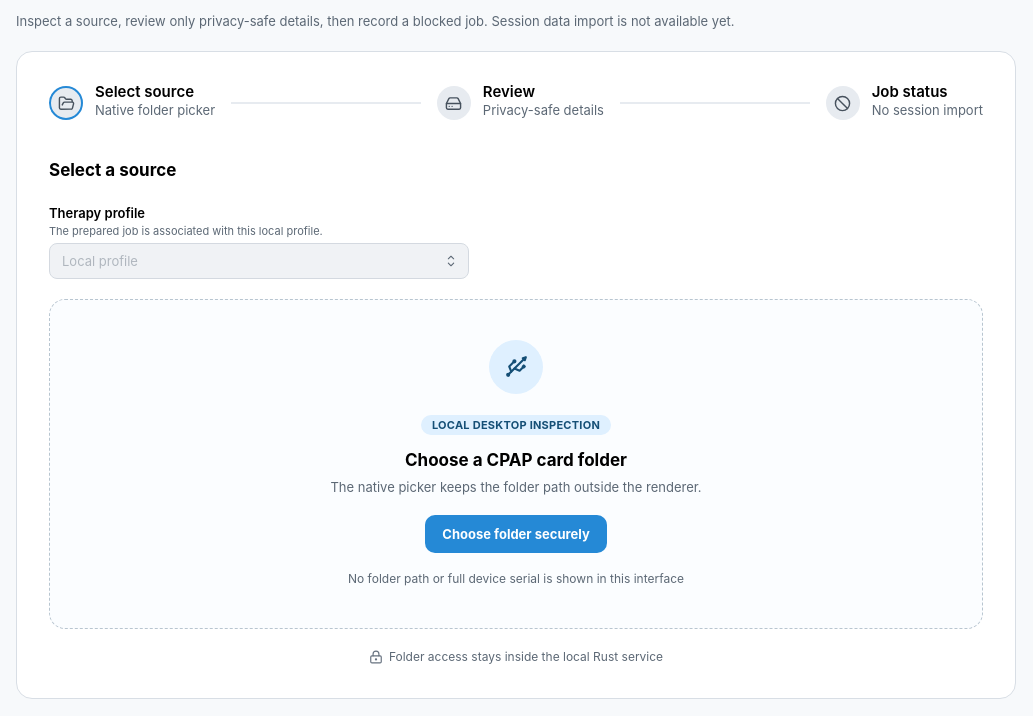
Test: Import workflow › shows an unsupported source without offering job preparation
Click the button "Choose a CPAP card folder" at coordinates (105, 464), box left=49, top=299, right=983, bottom=629
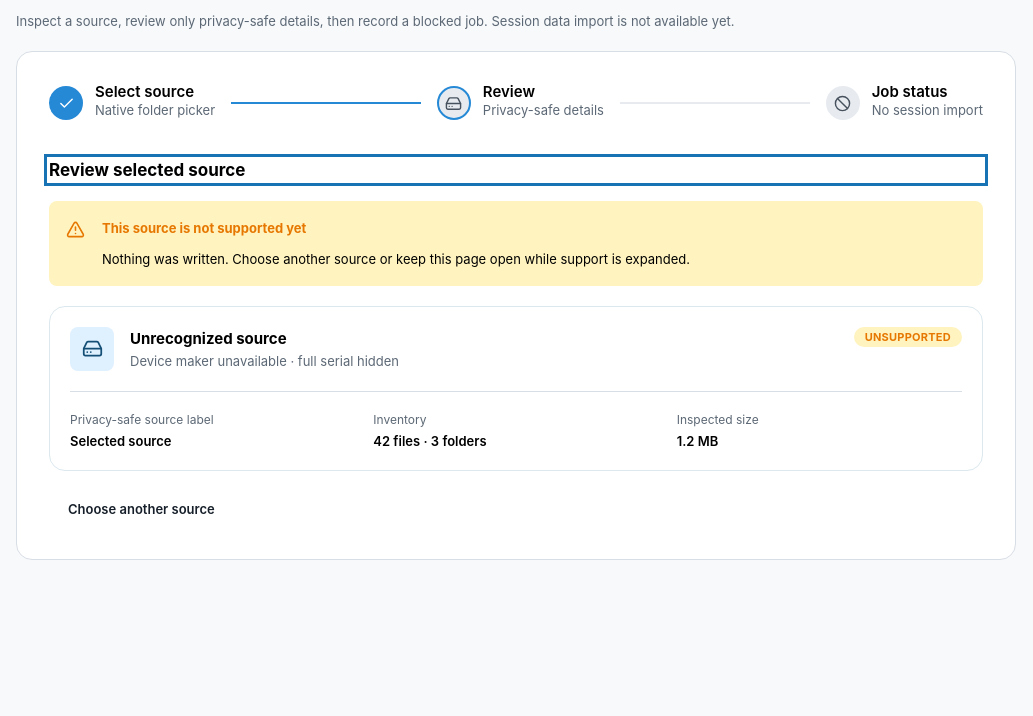
Expected: the text "This source is not supported yet" is shown, left=102, top=218, right=306, bottom=238
Expected: the text "Nothing was written" is shown, left=102, top=251, right=690, bottom=267
